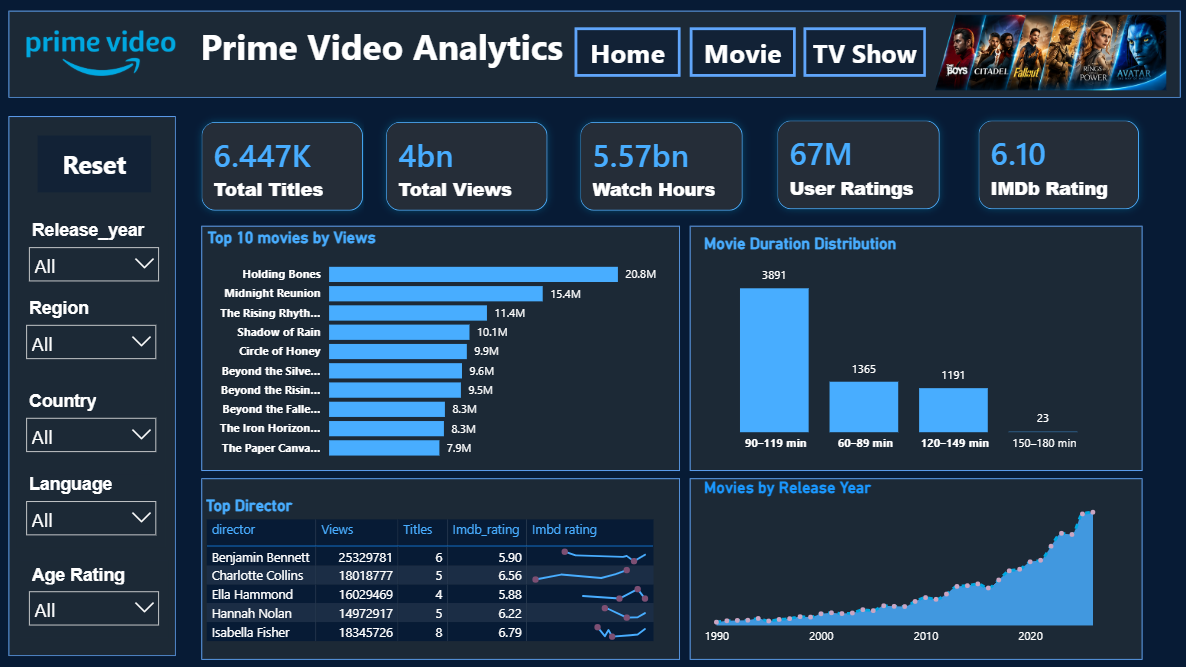

Layout of this report page (visuals, bound fields, positions):
{"tool":"powerbi","page":{"name":"DASHBOARD","canvas":[1280,720],"ordinal":0},"visuals":[{"type":"shape","title":"5thshape","box":[597.5,497.5,662.5,212.5],"z":0},{"type":"shape","box":[20,17.5,1242.5,92.5],"z":1000},{"type":"image","box":[40,18,158,90],"z":2000},{"type":"cardVisual","fields":{"Data":["Count(prime_video_synthetic_dataset.show_id)"]},"box":[197.5,107.5,227.5,150],"z":3000},{"type":"cardVisual","fields":{"Data":["Sum(prime_video_synthetic_dataset.total_views)"]},"box":[392.5,107.5,227.5,150],"z":4000},{"type":"cardVisual","fields":{"Data":["Sum(prime_video_synthetic_dataset.watch_time_hours)"]},"box":[598,108,228,150],"z":5000},{"type":"cardVisual","fields":{"Data":["Sum(prime_video_synthetic_dataset.user_rating_count)"]},"box":[808,106,228,150],"z":6000},{"type":"cardVisual","fields":{"Data":["Avg(prime_video_synthetic_dataset.imdb_rating)"]},"box":[1020,106,226,150],"z":7000},{"type":"textbox","box":[218.8,25,845,72.5],"z":8000},{"type":"actionButton","box":[862.5,35,130,52.5],"z":9000},{"type":"actionButton","box":[742.5,35,112.5,52.5],"z":10000},{"type":"shape","box":[20,130,177.5,572.5],"z":11000},{"type":"slicer","fields":{"Values":["prime_video_synthetic_dataset.release_year"]},"box":[32,236,158,82],"z":12000},{"type":"slicer","fields":{"Values":["prime_video_synthetic_dataset.region"]},"box":[32.4,319.1,145.6,82.4],"z":13000},{"type":"slicer","fields":{"Values":["prime_video_synthetic_dataset.country"]},"box":[30,416,158,82],"z":14000},{"type":"slicer","fields":{"Values":["prime_video_synthetic_dataset.language"]},"box":[30,504,158,82],"z":15000},{"type":"slicer","fields":{"Values":["prime_video_synthetic_dataset.rating"]},"box":[32,600,158,82],"z":16000},{"type":"actionButton","title":"homereset","box":[48,158,120,50],"z":17000},{"type":"shape","title":"firstshape","box":[218,259,363.3,221.7],"z":18000},{"type":"lineChart","title":"Titles added per year","fields":{"Category":["prime_video_synthetic_dataset.release_year"],"Y":["CountNonNull(prime_video_synthetic_dataset.title)"]},"box":[230,282.5,350,175],"z":19000},{"type":"shape","title":"secondshape","box":[597.5,255,400,232.5],"z":20000},{"type":"barChart","title":"Top genres","fields":{"Y":["CountNonNull(prime_video_synthetic_dataset.show_id)"],"Category":["prime_video_synthetic_dataset.listed_in"]},"box":[607.5,262.5,400,222.5],"z":21000},{"type":"shape","title":"fourthshape","box":[217.5,490,365,220],"z":22000},{"type":"shape","title":"thirdshape","box":[1005,255,255,235],"z":23000},{"type":"clusteredColumnChart","title":"Total Production by Type","fields":{"Y":["Sum(prime_video_synthetic_dataset.production_budget_usd)"],"Category":["prime_video_synthetic_dataset.type"]},"box":[1012.5,265,242.5,220],"z":24000},{"type":"treemap","title":"Content Distribution by Age Rating","fields":{"Group":["prime_video_synthetic_dataset.rating"],"Values":["CountNonNull(prime_video_synthetic_dataset.show_id)"]},"box":[607.5,505,637.5,205],"z":25000},{"type":"pieChart","title":"Views by Region","fields":{"Category":["prime_video_synthetic_dataset.region"],"Y":["Sum(prime_video_synthetic_dataset.total_views)"]},"box":[230,497.5,350,205],"z":26000},{"type":"image","box":[992.5,22.5,262.5,80],"z":27000},{"type":"actionButton","box":[620,35,112.5,52.5],"z":28000}]}

Visuals, with their boxes in screenshot pixels (x1, y1, x2, y2), scaled from the page's 1280x720 canvas onto the 1186x667 screenshot:
"5thshape" shape: box=[554, 461, 1167, 658]
shape: box=[19, 16, 1170, 102]
image: box=[37, 17, 183, 100]
cardVisual - Count(prime_video_synthetic_dataset.show_id): box=[183, 100, 394, 239]
cardVisual - Sum(prime_video_synthetic_dataset.total_views): box=[364, 100, 574, 239]
cardVisual - Sum(prime_video_synthetic_dataset.watch_time_hours): box=[554, 100, 765, 239]
cardVisual - Sum(prime_video_synthetic_dataset.user_rating_count): box=[749, 98, 960, 237]
cardVisual - Avg(prime_video_synthetic_dataset.imdb_rating): box=[945, 98, 1154, 237]
textbox: box=[203, 23, 986, 90]
actionButton: box=[799, 32, 920, 81]
actionButton: box=[688, 32, 792, 81]
shape: box=[19, 120, 183, 651]
slicer - prime_video_synthetic_dataset.release_year: box=[30, 219, 176, 295]
slicer - prime_video_synthetic_dataset.region: box=[30, 296, 165, 372]
slicer - prime_video_synthetic_dataset.country: box=[28, 385, 174, 461]
slicer - prime_video_synthetic_dataset.language: box=[28, 467, 174, 543]
slicer - prime_video_synthetic_dataset.rating: box=[30, 556, 176, 632]
"homereset" actionButton: box=[44, 146, 156, 193]
"firstshape" shape: box=[202, 240, 539, 445]
"Titles added per year" lineChart: box=[213, 262, 537, 424]
"secondshape" shape: box=[554, 236, 924, 452]
"Top genres" barChart: box=[563, 243, 934, 449]
"fourthshape" shape: box=[202, 454, 540, 658]
"thirdshape" shape: box=[931, 236, 1167, 454]
"Total Production by Type" clusteredColumnChart: box=[938, 245, 1163, 449]
"Content Distribution by Age Rating" treemap: box=[563, 468, 1154, 658]
"Views by Region" pieChart: box=[213, 461, 537, 651]
image: box=[920, 21, 1163, 95]
actionButton: box=[574, 32, 679, 81]
